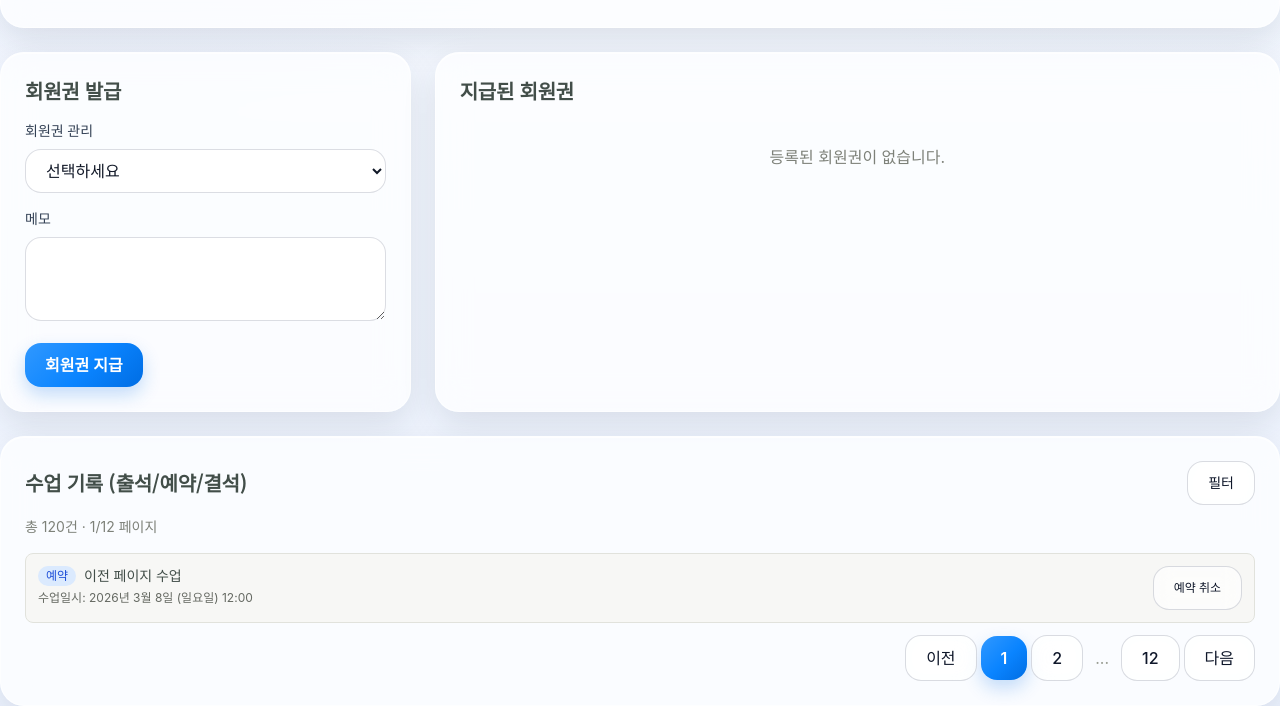
Scenario: CustomerDetail page › changes activity page with previous button
(page scrolled)
Click the button "2". click: [1057, 658]
box: [1031, 635, 1083, 681]
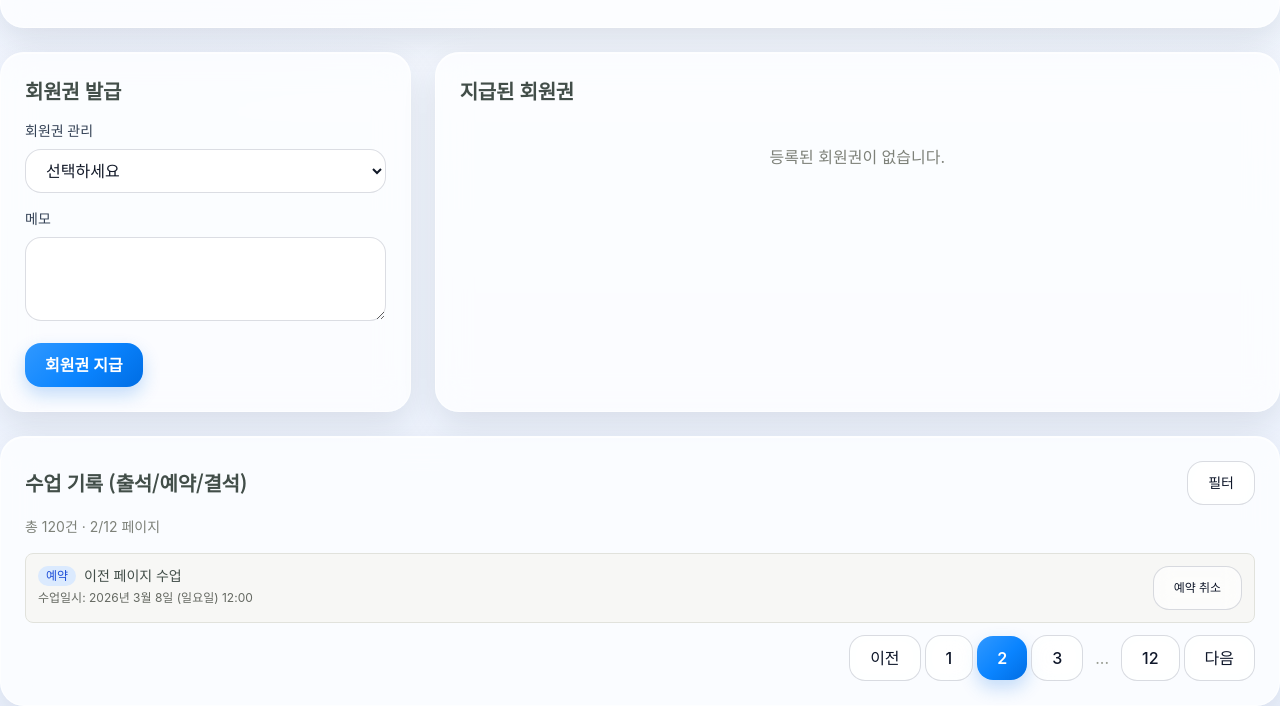
Check: the text "총 120건 · 2/12 페이지" is shown, box [25, 518, 160, 535]
Click the button "이전". click: [885, 658]
box: [849, 635, 921, 681]
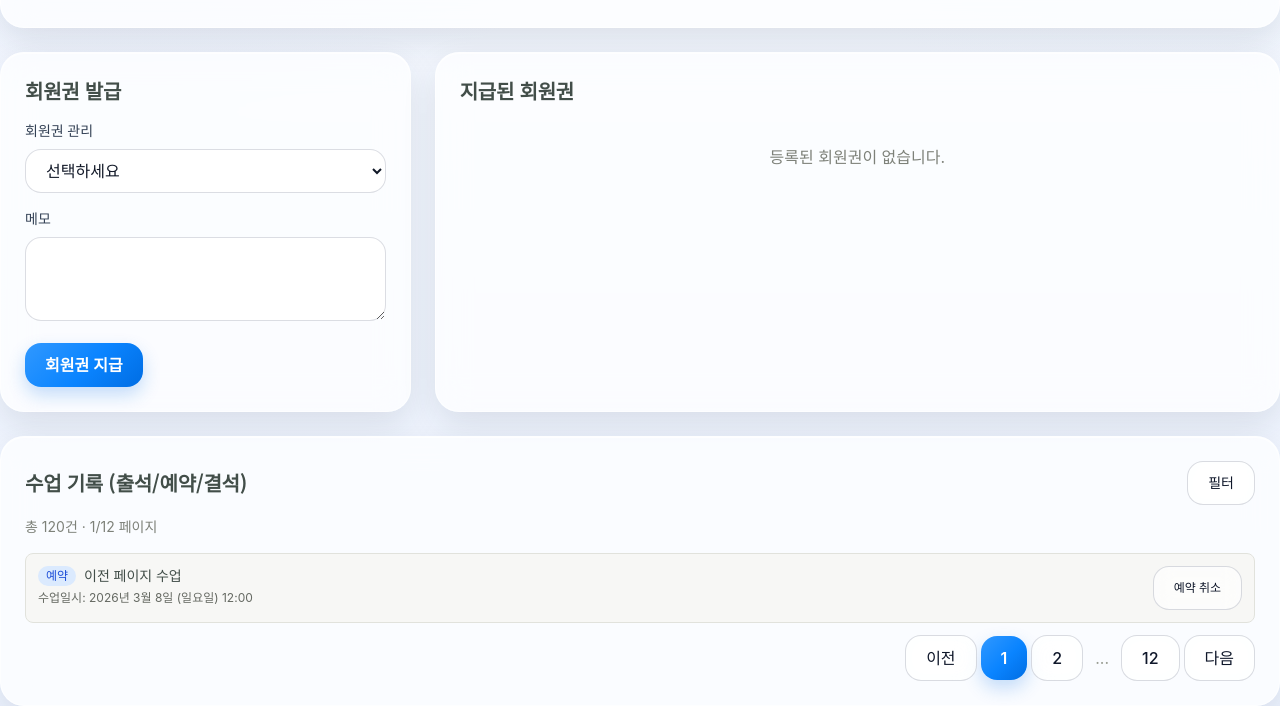
Check: the text "총 120건 · 1/12 페이지" is shown, box [25, 518, 157, 535]
